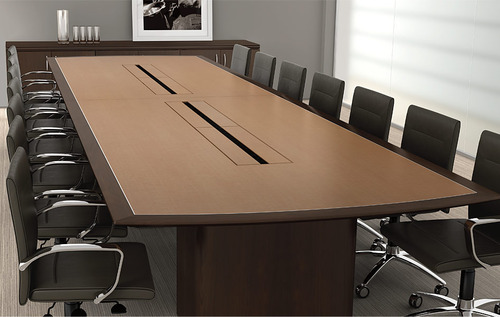conference_table: (46, 54, 499, 317)
